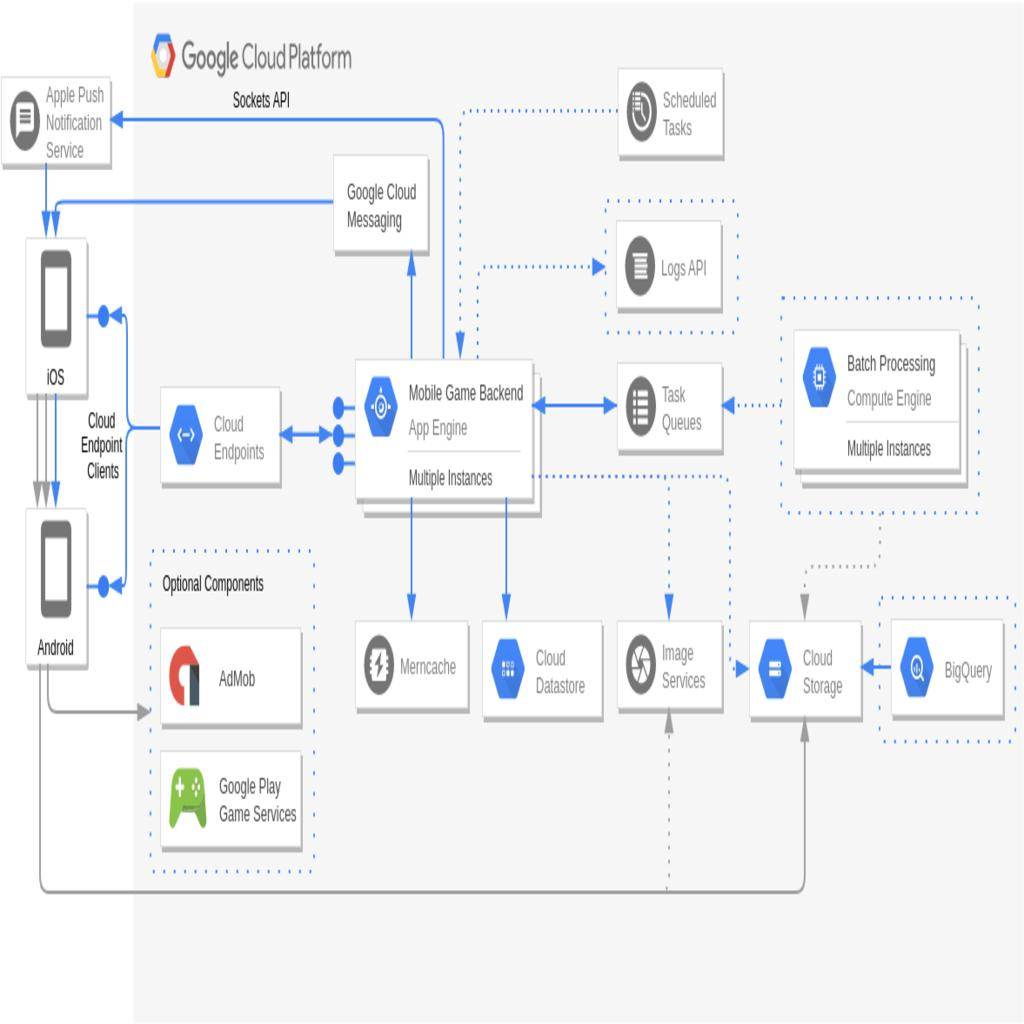actor: (0, 31, 113, 215), (25, 238, 88, 397), (25, 510, 88, 668)
api_gateway: (280, 154, 470, 256), (158, 386, 282, 484), (616, 356, 722, 453)
compute: (356, 364, 535, 506), (786, 336, 970, 474), (160, 620, 303, 722), (160, 740, 303, 842), (610, 222, 729, 310), (616, 617, 722, 714), (616, 69, 722, 156)
data_flow: (49, 894, 797, 898), (52, 202, 328, 208), (112, 116, 440, 120), (122, 294, 128, 454), (122, 448, 128, 596), (667, 450, 672, 624), (408, 220, 413, 384), (667, 712, 672, 876), (502, 484, 508, 618), (804, 701, 808, 896), (408, 484, 413, 618), (44, 392, 48, 510), (522, 402, 616, 407), (282, 432, 349, 438), (717, 402, 784, 407), (44, 158, 48, 230), (722, 663, 748, 668), (878, 663, 904, 668)
database_storage: (482, 617, 603, 714), (890, 617, 1004, 714), (354, 617, 467, 714), (750, 617, 862, 714)
trust_boundary: (133, 5, 1024, 1019), (150, 546, 314, 874), (778, 294, 979, 514), (878, 596, 1016, 744), (605, 197, 738, 335)
